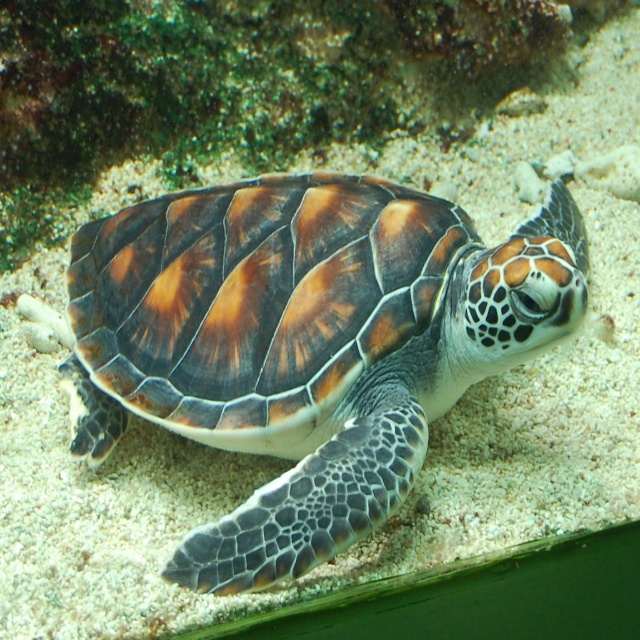Sea turtle: (56, 146, 598, 606)
